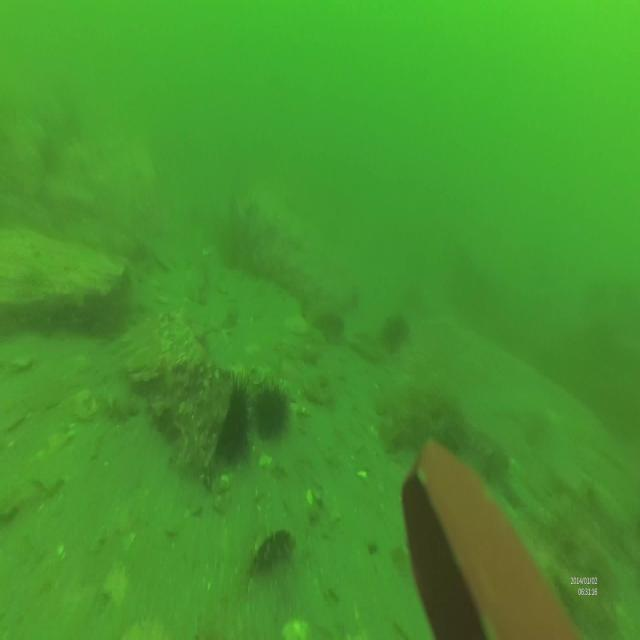echinus: (205, 371, 251, 460), (251, 377, 289, 436)
